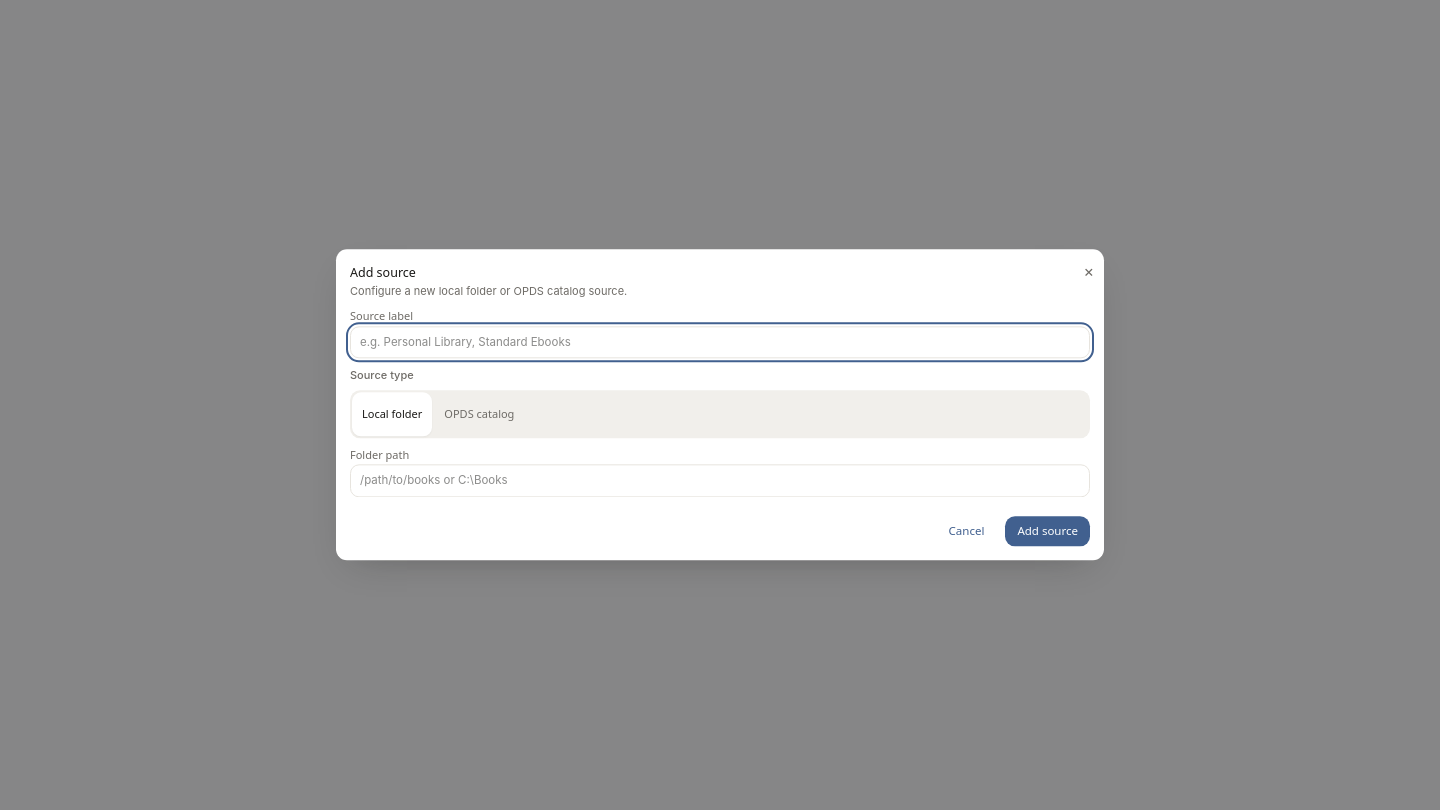
SourceFormDialog › shows HTTP warning when non-HTTPS URL has credential form open
Switch to OPDS
Click the radio button "OPDS catalog". click: (479, 414)
box: [434, 392, 524, 436]
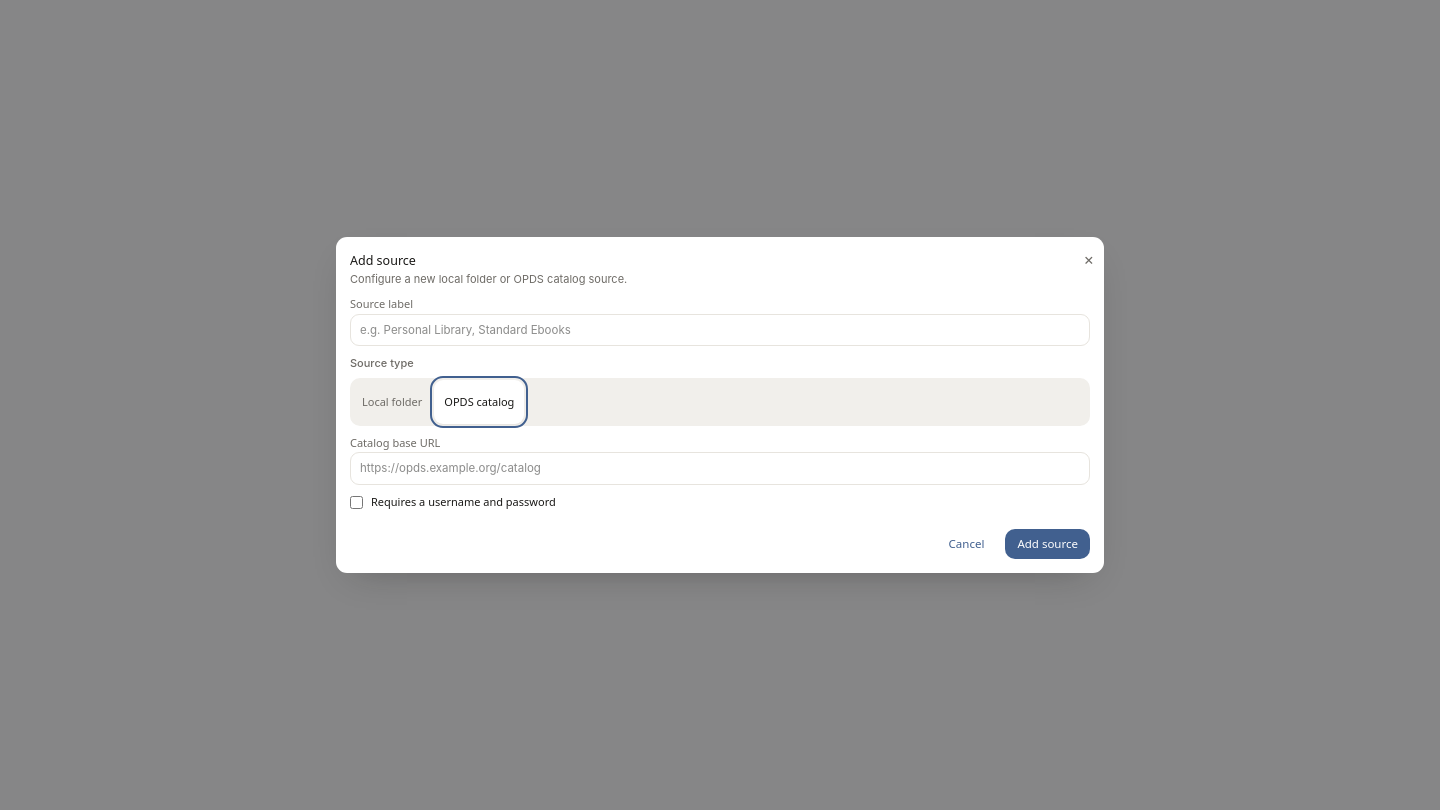
Enable credentials
Click the checkbox labelled "Requires a username and password". click: (356, 502)
box: [350, 496, 363, 509]
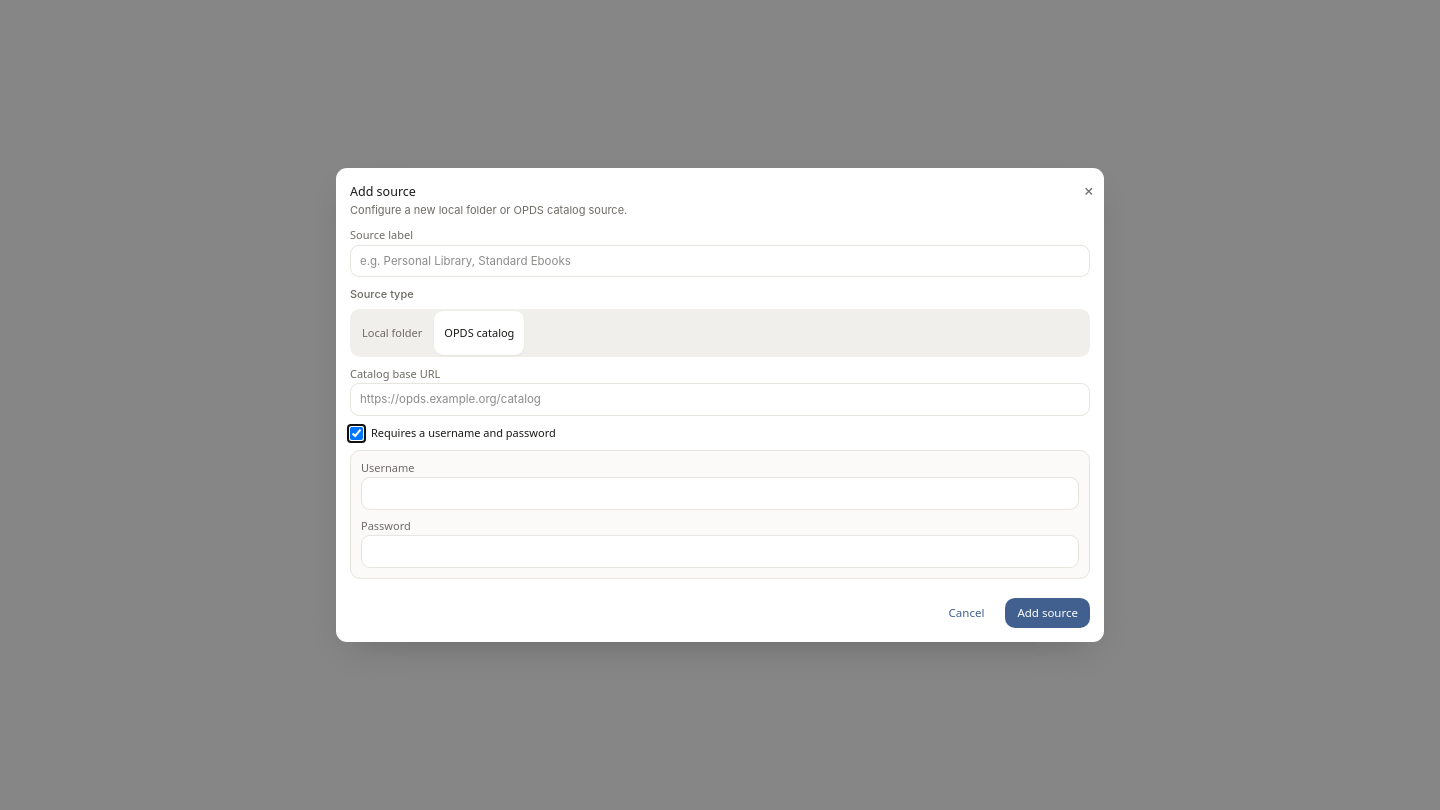
Type "http://opds.insecure.org/feed" into the field labelled "Catalog base URL". click: (720, 400)
box: [350, 383, 1090, 416]
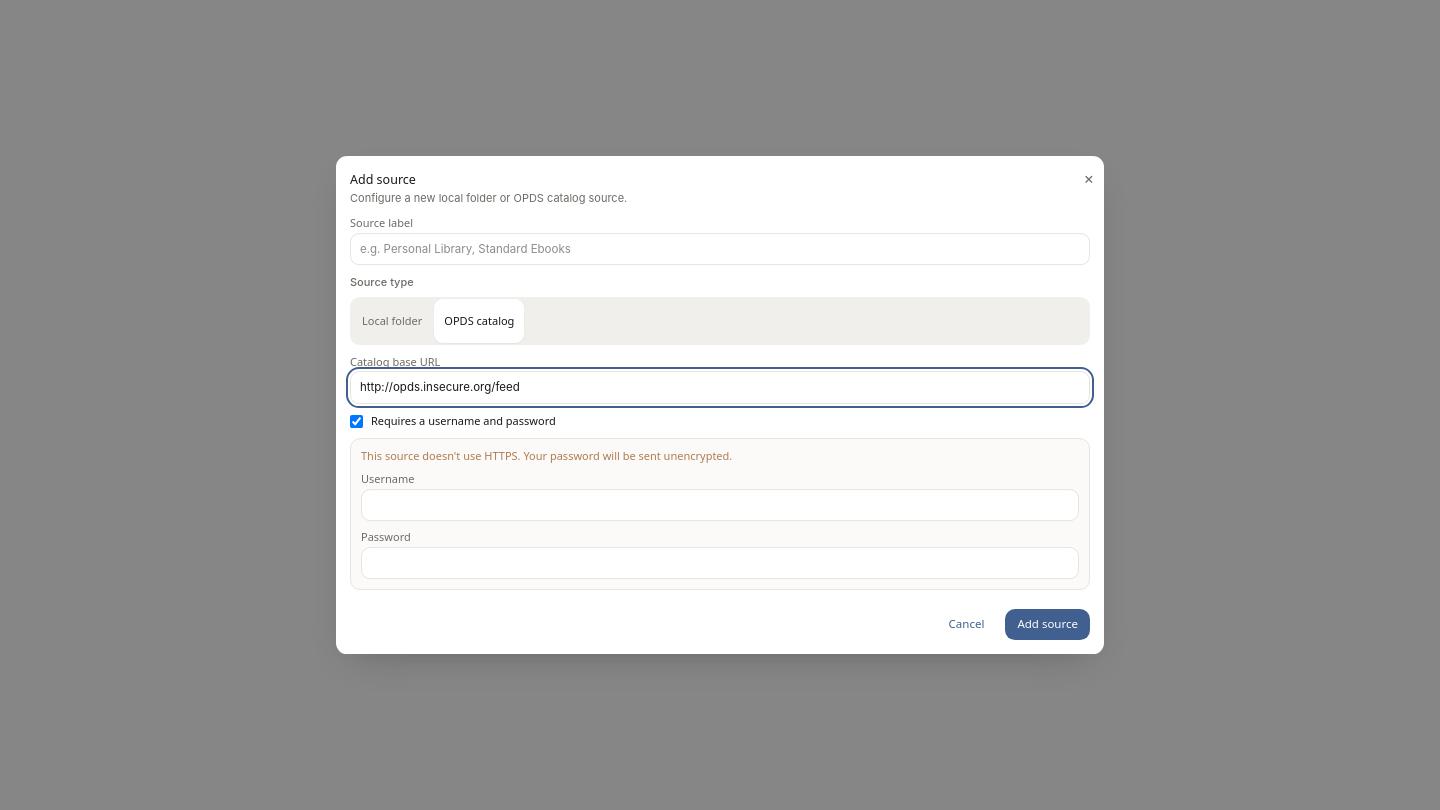
Check: the text "This source doesn't use HTTPS. Your password will be sent unencrypted." is shown, box [361, 448, 732, 463]
